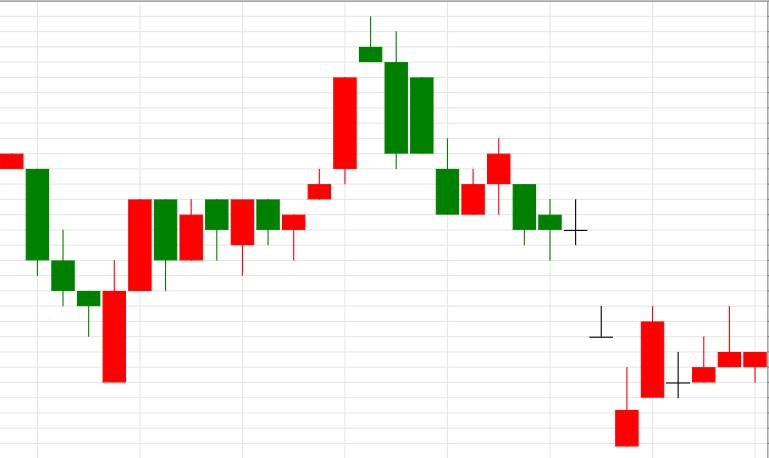bullish_engulfing_rise: (1, 152, 126, 382)
evening_star_fall: (282, 15, 407, 261)
